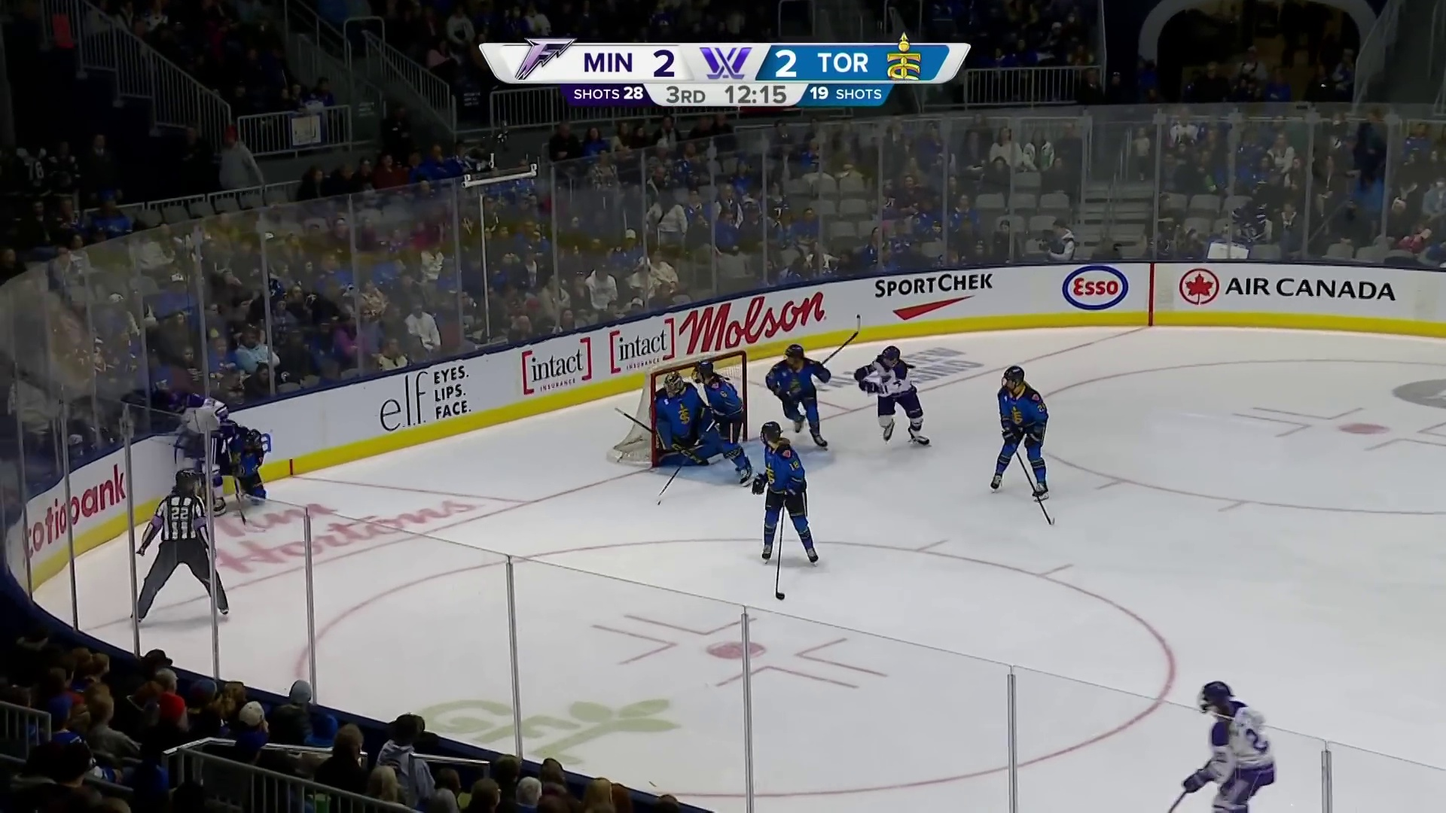goaltender: (653, 371, 722, 463)
player: (751, 419, 820, 565), (852, 345, 936, 446), (989, 366, 1050, 501), (692, 359, 755, 480), (762, 342, 832, 449)
referee: (130, 467, 228, 623)
